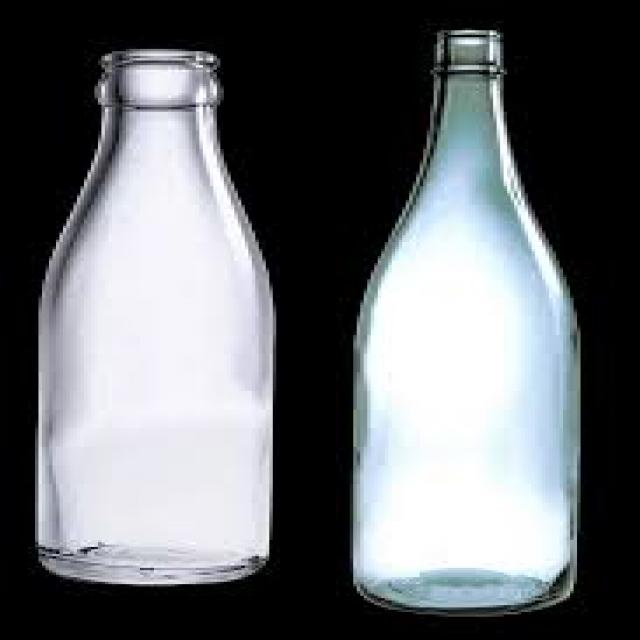Glass: (348, 23, 581, 624), (32, 45, 276, 593)
